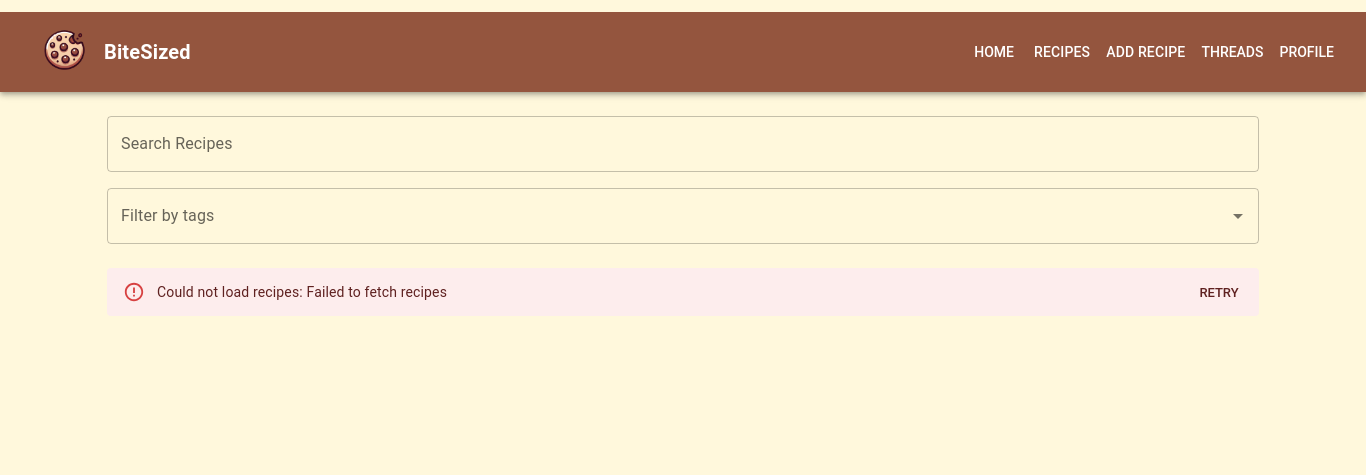
Test case: recipe list shows an error and retries
expect the text "Could not load recipes: Failed to fetch recipes" is shown: met, box [157,284,447,300]
Click the button "Retry".
click(1219, 293)  # box [1187,278,1251,309]
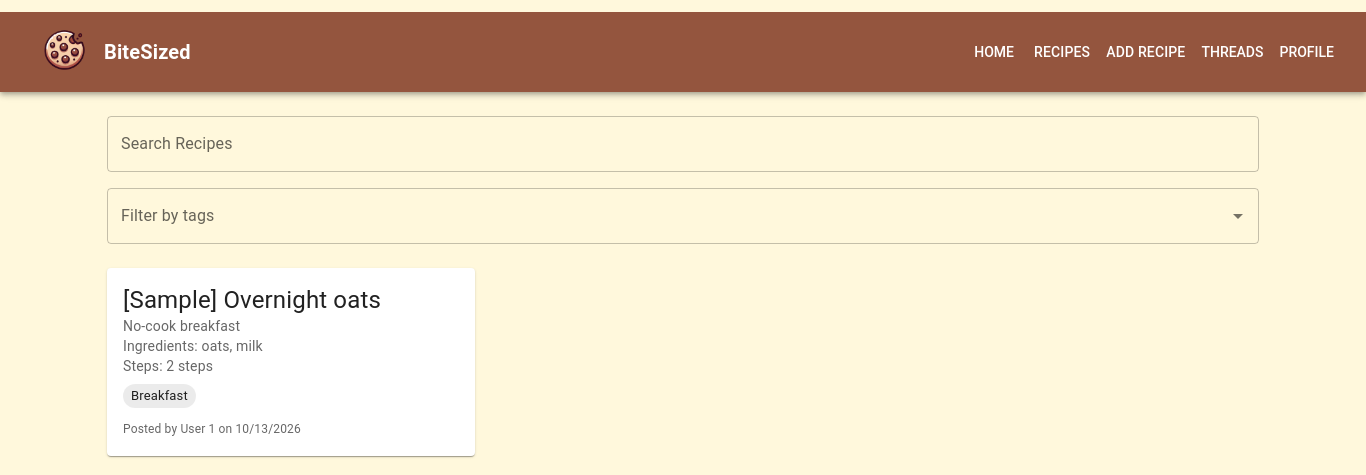
expect the heading "[Sample] Overnight oats" is shown: met, box [123,286,381,314]
